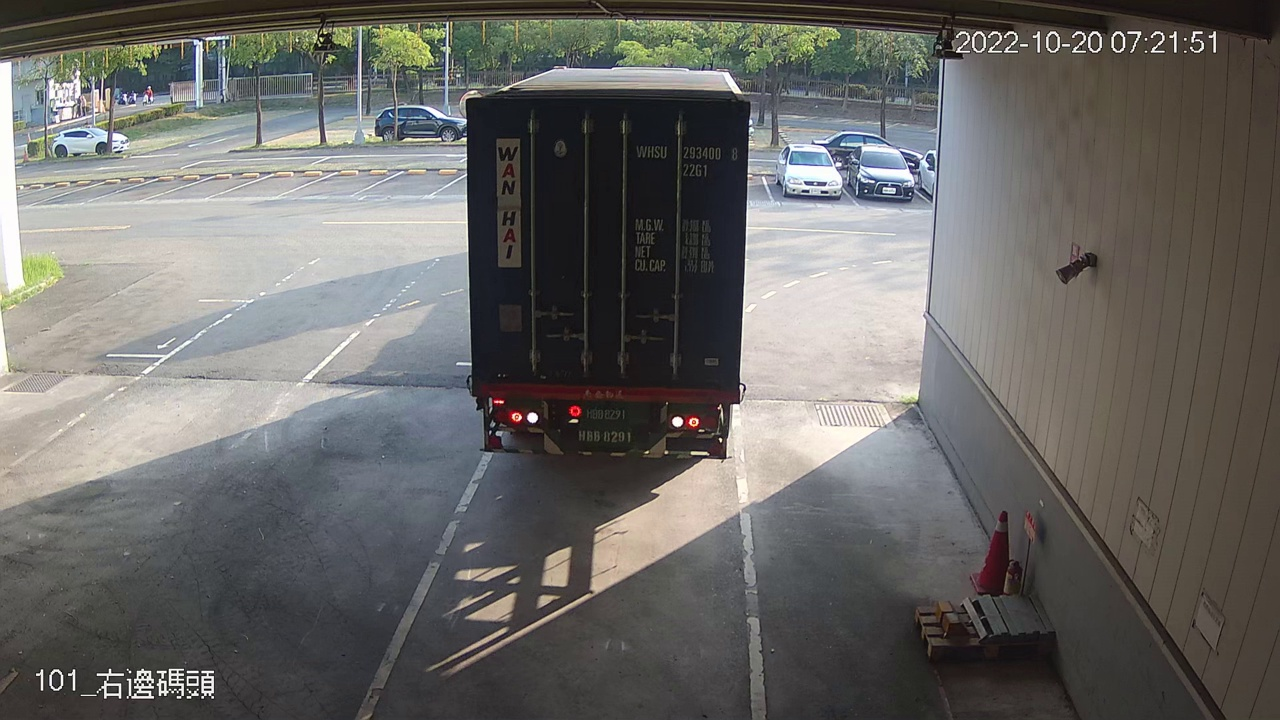container: (628, 137, 742, 181)
